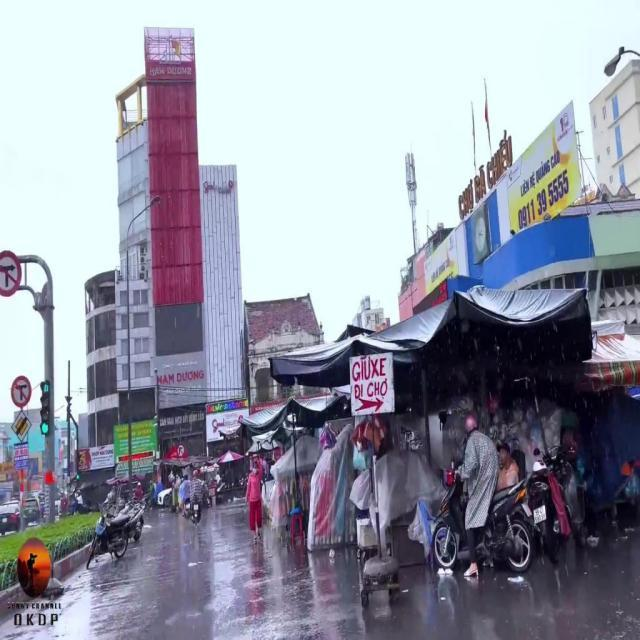123b-cam-re-phai: (176, 443, 186, 457)
137-cam-re-trai-va-re-phai: (0, 250, 20, 295), (10, 376, 32, 408)
